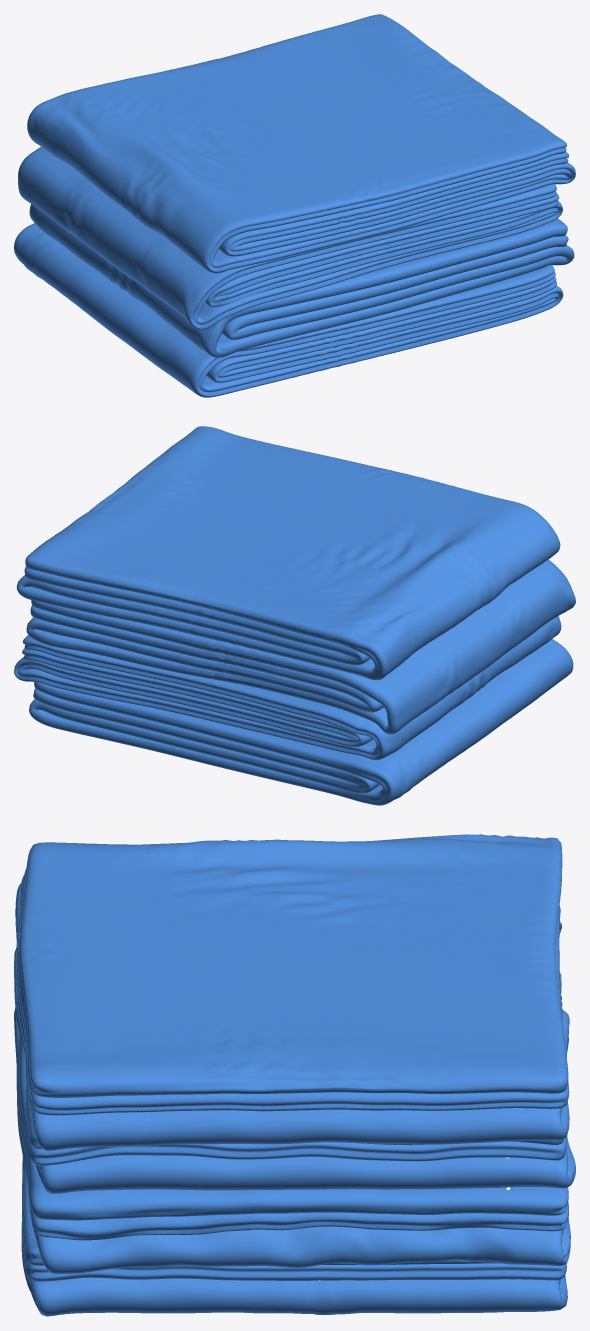
File: tovaglie_piegate.fbx
3 renders of one model, top to bottom at view 1: azimuth 30°, elevation 25°; view 2: azimuth 150°, elevation 25°; view 3: azimuth 270°, elevation 25°, orthographic. The views are drawn at different scales.
Visible parts, largest first — view 1: tovel3, tove2, Towels, tovel1; view 2: tovel3, tove2, Towels, tovel1; view 3: tovel3, tovel1, Towels, tove2.
Part boxes in pixels (x1=…): tovel3: x1=27, y1=14, x2=575, y2=273; tove2: x1=18, y1=147, x2=562, y2=329; Towels: x1=14, y1=223, x2=563, y2=397; tovel1: x1=29, y1=204, x2=574, y2=357; tovel3: x1=16, y1=426, x2=560, y2=680; tove2: x1=26, y1=559, x2=575, y2=734; Towels: x1=29, y1=639, x2=573, y2=805; tovel1: x1=14, y1=616, x2=561, y2=760; tovel3: x1=15, y1=834, x2=569, y2=1150; tovel1: x1=14, y1=971, x2=570, y2=1274; Towels: x1=21, y1=1010, x2=569, y2=1316; tove2: x1=14, y1=906, x2=575, y2=1193.
Size of the model in its own units: 35.27 by 29.79 by 14.9.
